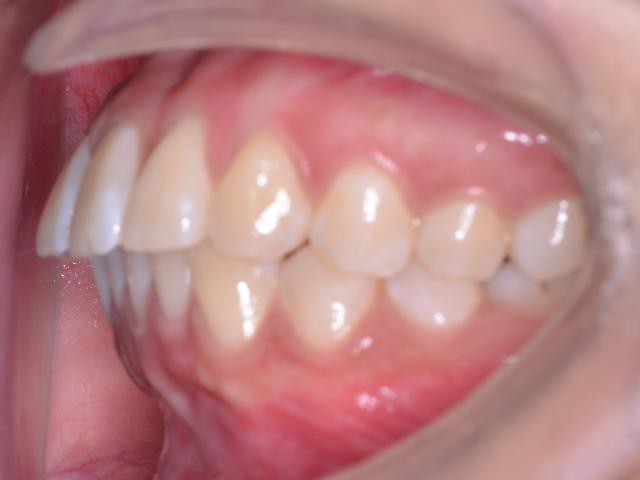canine class II 1/4: (191, 126, 385, 368)
